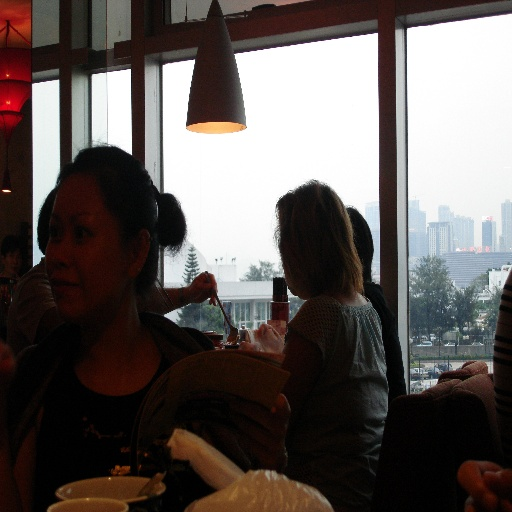hand: (456, 459, 511, 511), (187, 272, 217, 308)
